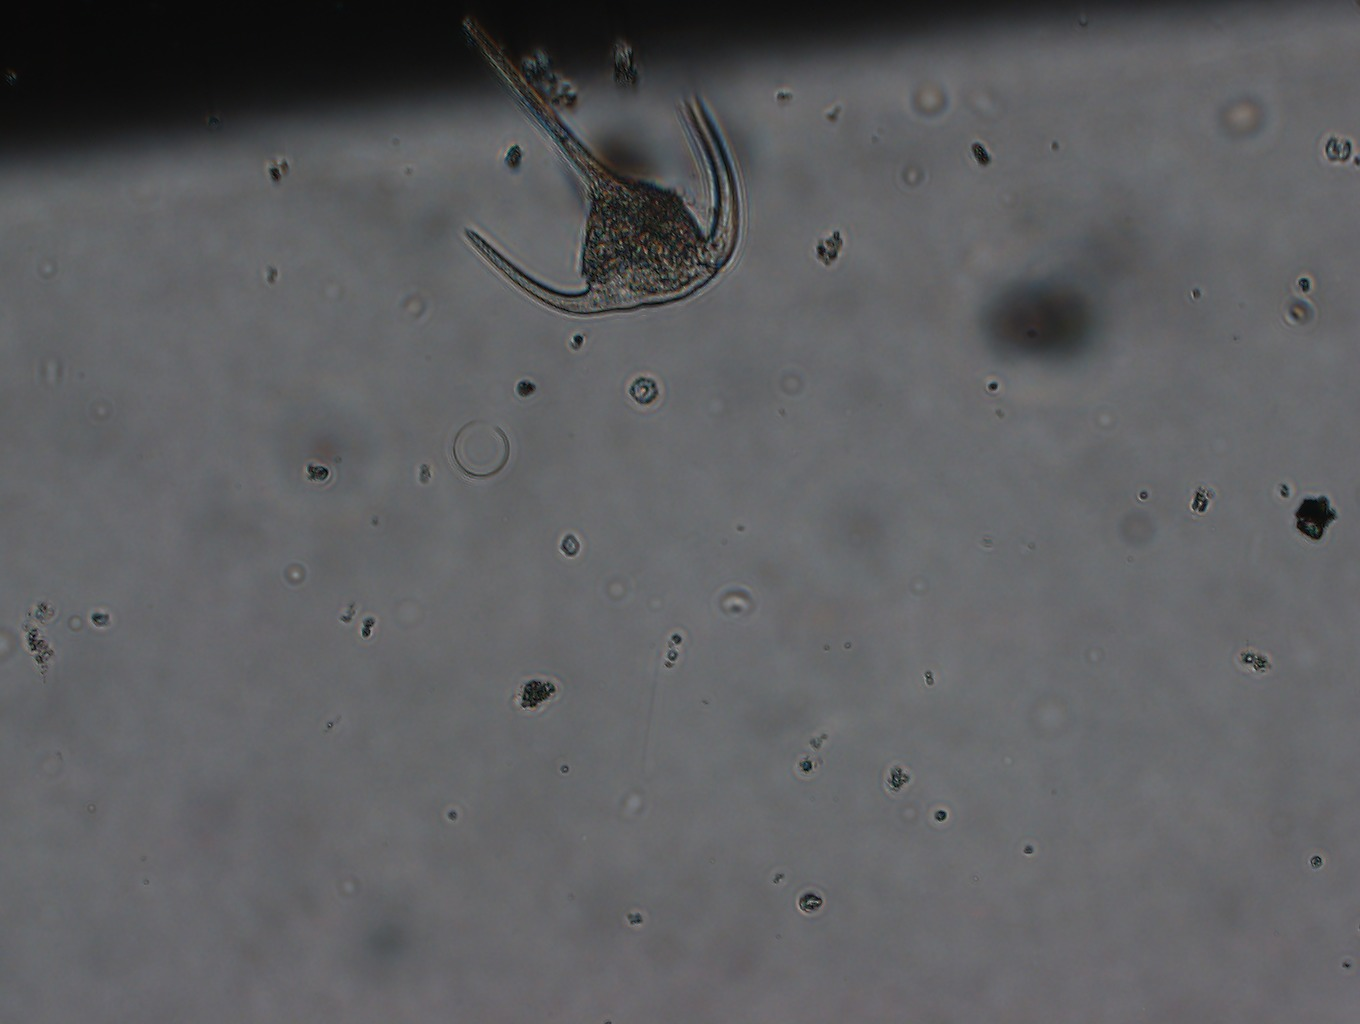ceratium tripos: (428, 1, 750, 326)
